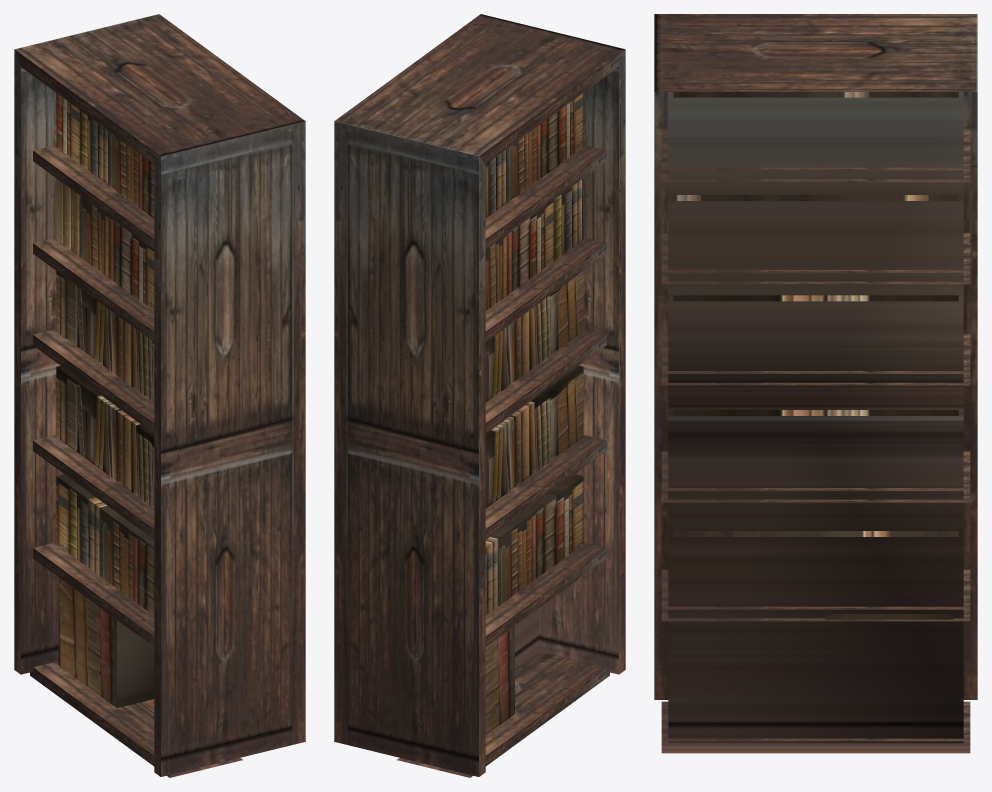
The model's file is librero.fbx.
3 renders of one model, left to right at view 1: azimuth 30°, elevation 25°; view 2: azimuth 150°, elevation 25°; view 3: azimuth 270°, elevation 25°, orthographic. The views are drawn at different scales.
Parts seen in each view (by area): view 1: librero; view 2: librero; view 3: librero.
Boxes of the visible parts, x1,y1,x2,y2 form: librero: [14, 14, 305, 777]; librero: [334, 14, 625, 777]; librero: [654, 14, 977, 753].
Size of the model in its own units: 49.54 by 205 by 86.83.
